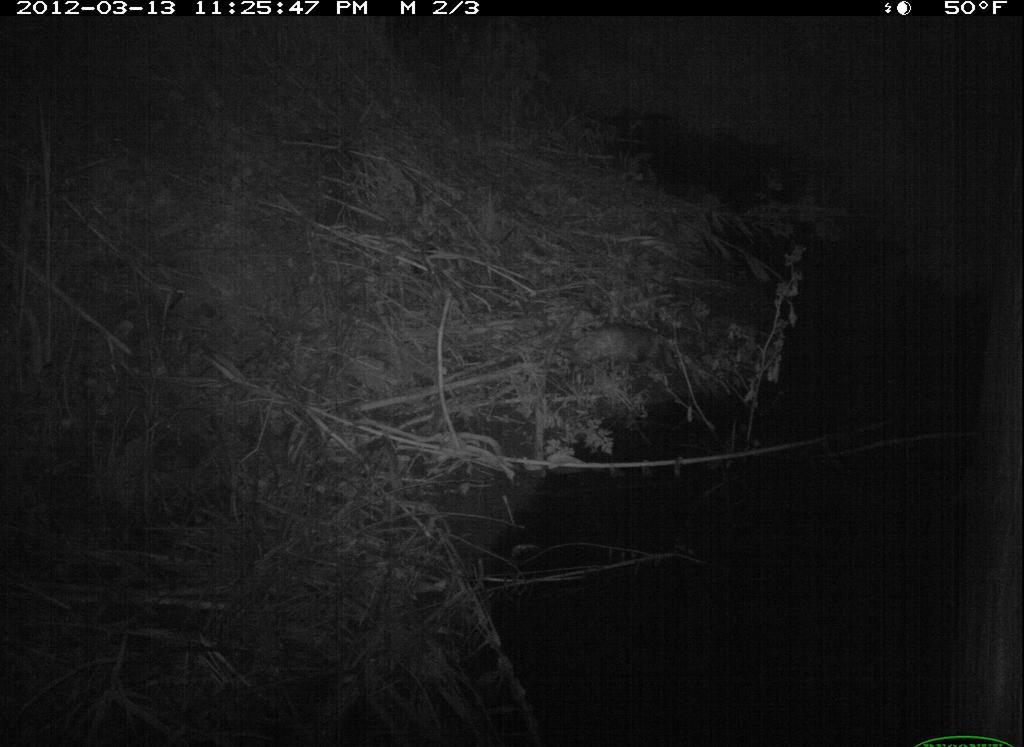opossum: (570, 316, 687, 384)
